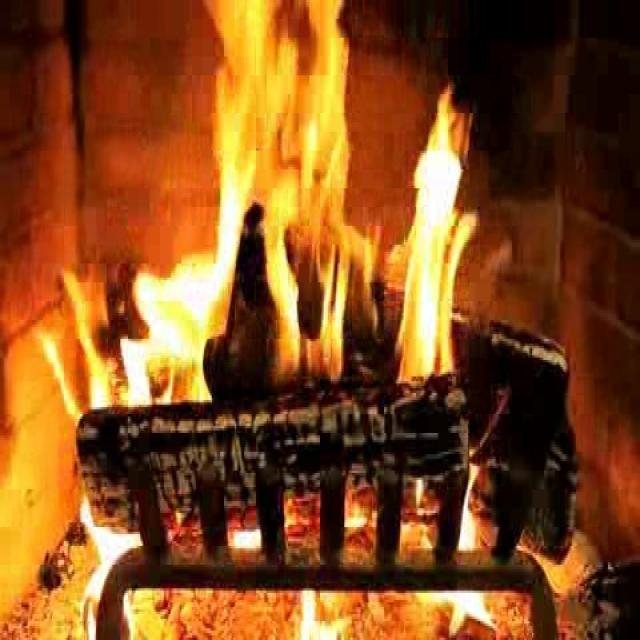fire: (123, 24, 480, 411)
